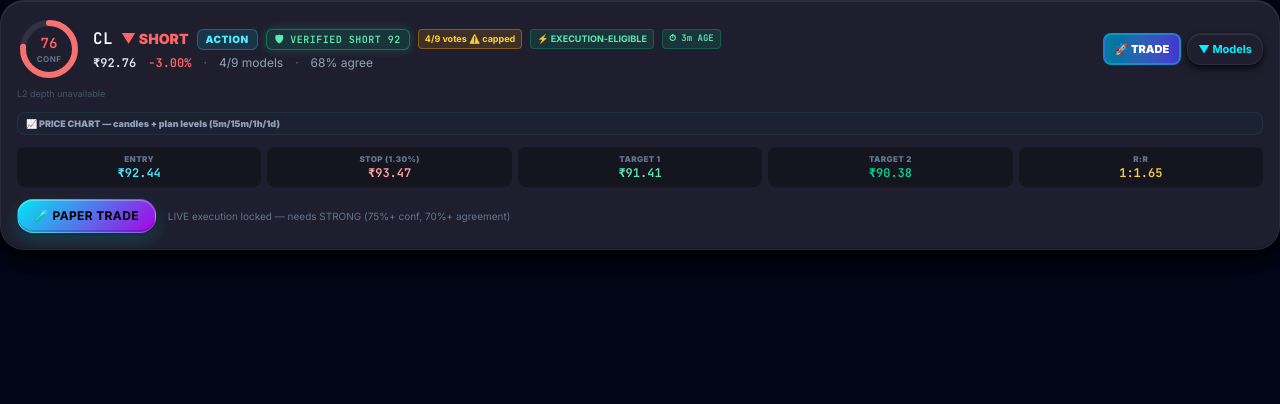
Test: v18.6.4 — SignalCard: single VerifyBadge / VerifyChecklist › expanded card renders the checklist EXACTLY once (was: 2, one un-gated)
Note: expand via the header expander (⌄ WHY / aria-expanded button)
Click the button "▼ Models": (1225, 49) x1=1187 y1=33 x2=1263 y2=65
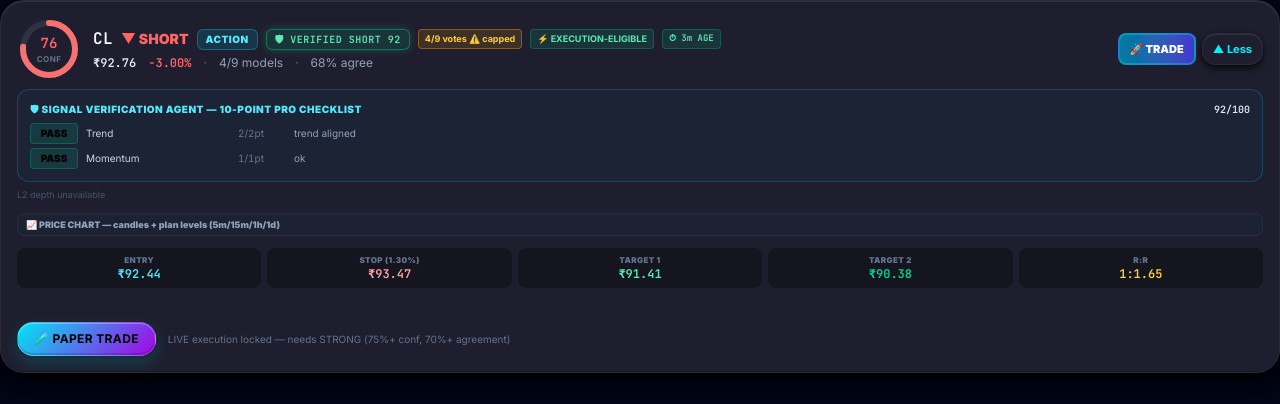
Expected: the text "🛡 VERIFIED SHORT 92" is shown once, x1=266 y1=28 x2=410 y2=50
Result: the text "Trend" is shown once at x1=86 y1=127 x2=113 y2=139
Result: the text "Momentum" is shown once at x1=86 y1=152 x2=140 y2=164
